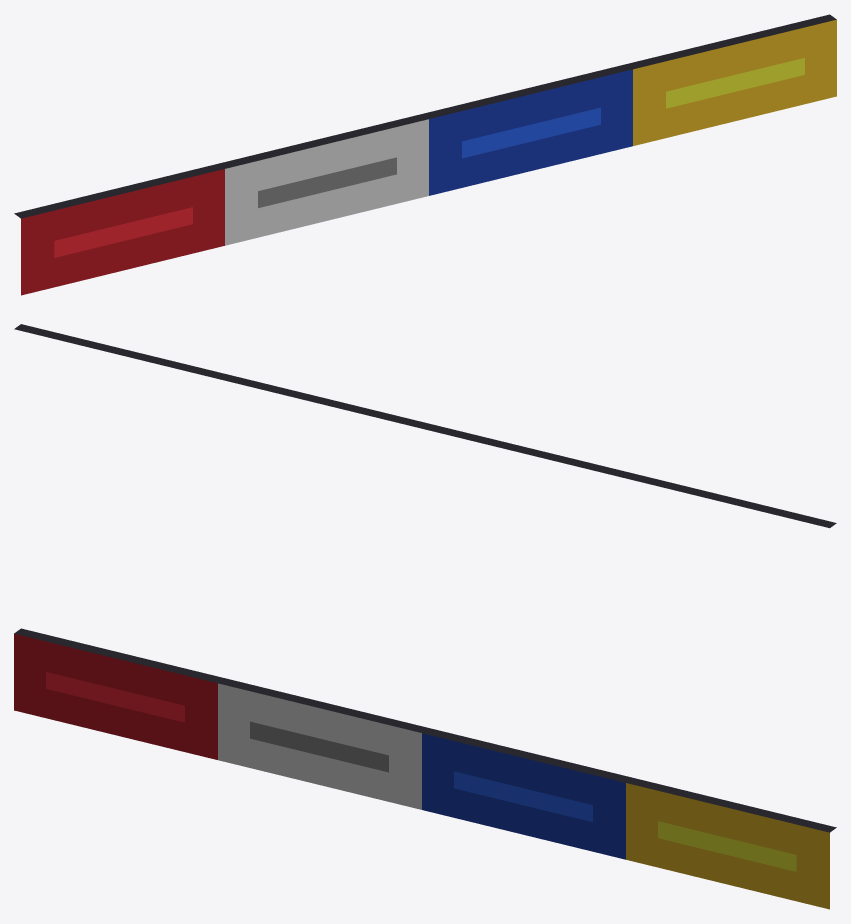
The model's file is boards_0.glb.
3 views of the same model, one above another, from view 1: azimuth 30°, elevation 25°; view 2: azimuth 150°, elevation 25°; view 3: azimuth 330°, elevation 25° (orthographic).
Parts seen in each view (by area): view 1: boards_0; view 2: boards_0; view 3: boards_0.
Part boxes in pixels (x1,y1,x2,y2): boards_0: (14,14,836,295); boards_0: (14,324,836,528); boards_0: (14,628,836,909).
Size of the model in its own units: 10 by 0.9 by 0.16.
